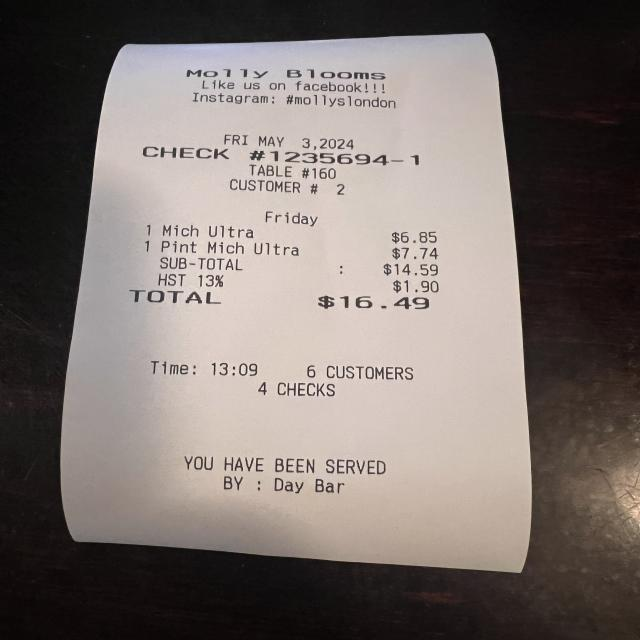item: (156, 221, 444, 246), (156, 238, 444, 262)
store_name: (178, 62, 394, 86)
total_amount: (122, 284, 446, 316)
transaction_date: (215, 129, 364, 155)
